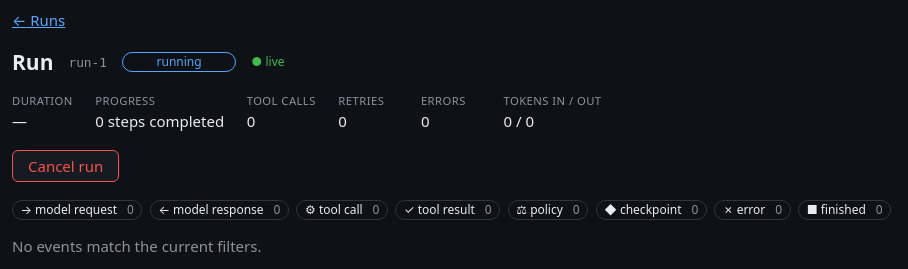
Test: RunDetailPage actions › disables controls while a request is in flight
Click the button "Cancel run": [66, 166] box [12, 150, 119, 182]
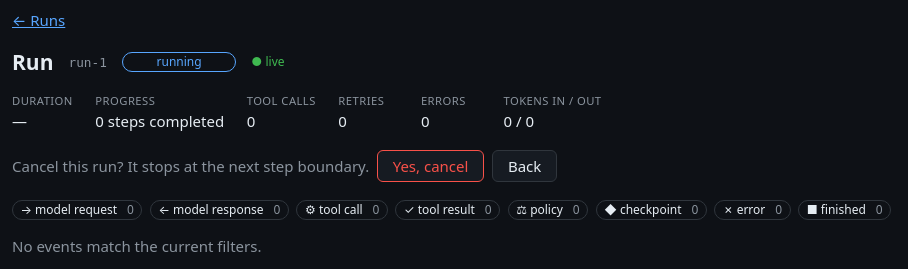
Click the button "Yes, cancel": [431, 166] box [377, 150, 484, 182]
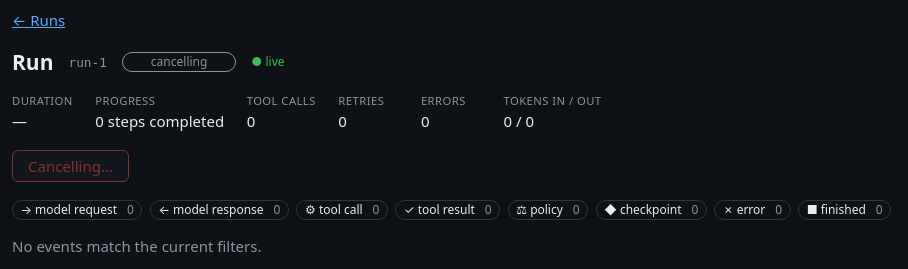
expect the button "Cancelling…" is disabled: met, box [12, 150, 129, 182]
